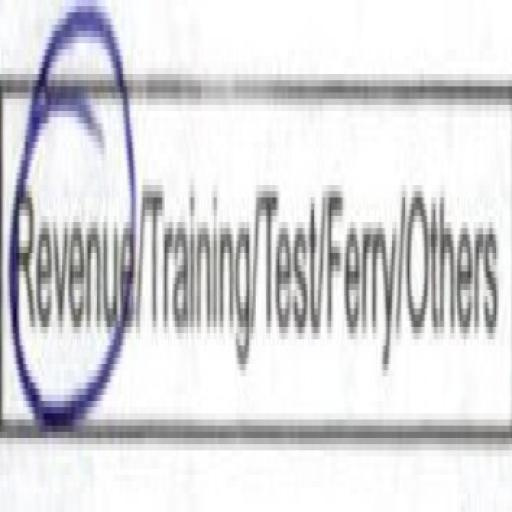check: (9, 0, 139, 512)
